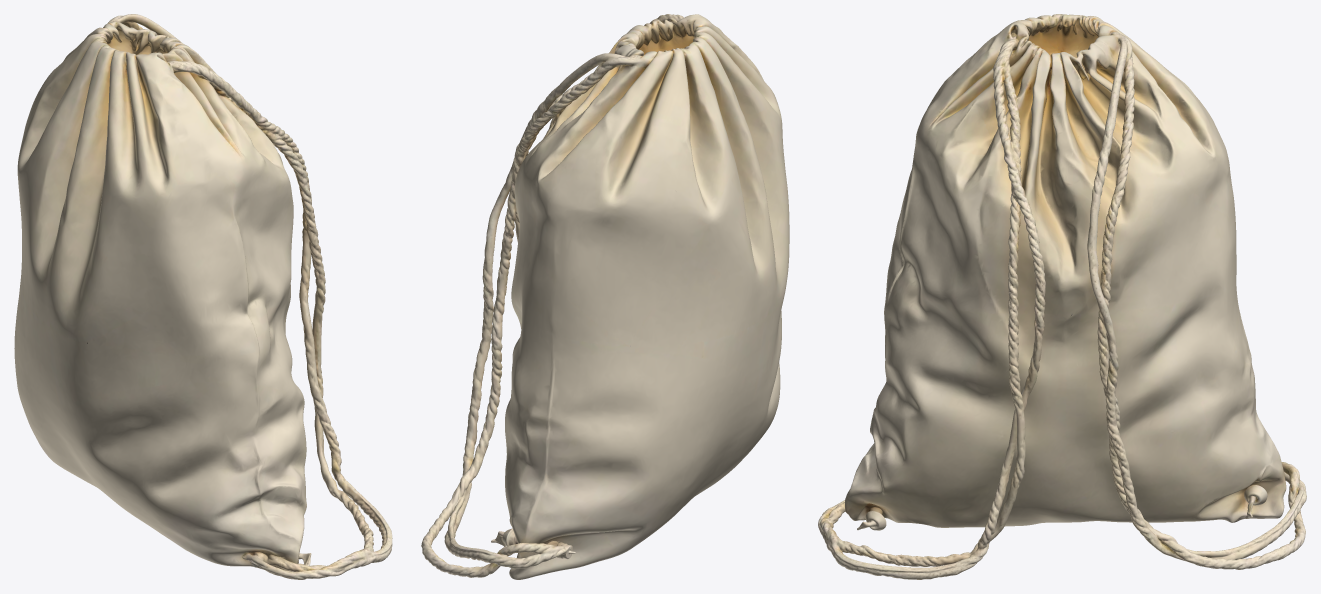
Rendered from wm110-drawstring-bag.glb.
3 renders of one model, left to right at view 1: azimuth 30°, elevation 25°; view 2: azimuth 150°, elevation 25°; view 3: azimuth 270°, elevation 25°, orthographic.
Parts seen in each view (by area): view 1: tripo_node_8365d777-bbed-4e2f-9c35-7cc66ead5036; view 2: tripo_node_8365d777-bbed-4e2f-9c35-7cc66ead5036; view 3: tripo_node_8365d777-bbed-4e2f-9c35-7cc66ead5036.
Boxes of the visible parts, <box> form: tripo_node_8365d777-bbed-4e2f-9c35-7cc66ead5036: <box>14,14,392,579</box>; tripo_node_8365d777-bbed-4e2f-9c35-7cc66ead5036: <box>421,14,789,579</box>; tripo_node_8365d777-bbed-4e2f-9c35-7cc66ead5036: <box>818,14,1306,579</box>.
Bounding box in the file's own units: 0.5875 × 1 × 0.9314.
1 material, 1 textured.
